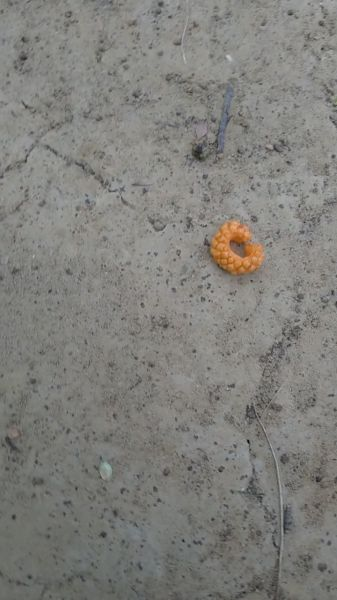eggs: (205, 215, 272, 281)
